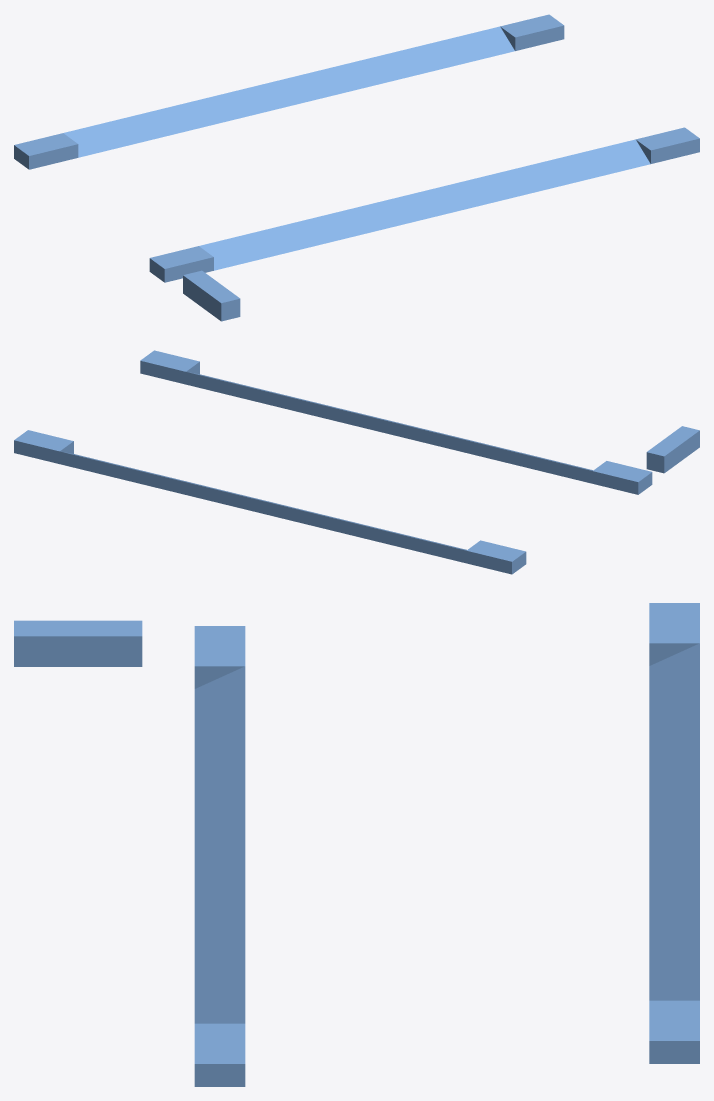
File: Lounge_Collision.fbx
The picture shows the model from 3 angles, top to bottom: view 1: azimuth 30°, elevation 25°; view 2: azimuth 150°, elevation 25°; view 3: azimuth 270°, elevation 25°; orthographic projection. The views are drawn at different scales.
Parts seen in each view (by area): view 1: COL_Stair_Ramp_2, COL_Stair_Ramp_1, COL_SnackCounter, COL_TierEdge_2_-1, COL_TierEdge_1_-1, COL_TierEdge_2_1, COL_TierEdge_1_1; view 2: COL_Stair_Ramp_2, COL_Stair_Ramp_1, COL_SnackCounter, COL_TierEdge_1_-1, COL_TierEdge_2_-1, COL_TierEdge_2_1, COL_TierEdge_1_1; view 3: COL_Stair_Ramp_1, COL_Stair_Ramp_2, COL_SnackCounter, COL_TierEdge_1_1, COL_TierEdge_2_1, COL_TierEdge_1_-1, COL_TierEdge_2_-1.
Part boxes in pixels (x1,y1,x2,y2): COL_Stair_Ramp_2: [63, 26, 514, 157]; COL_Stair_Ramp_1: [199, 139, 650, 270]; COL_SnackCounter: [183, 270, 240, 321]; COL_TierEdge_2_-1: [14, 133, 78, 169]; COL_TierEdge_1_-1: [149, 246, 213, 282]; COL_TierEdge_2_1: [500, 14, 564, 50]; COL_TierEdge_1_1: [636, 127, 699, 163]; COL_Stair_Ramp_2: [59, 451, 466, 563]; COL_Stair_Ramp_1: [186, 372, 592, 483]; COL_SnackCounter: [646, 426, 699, 473]; COL_TierEdge_1_-1: [592, 461, 652, 494]; COL_TierEdge_2_-1: [466, 540, 526, 574]; COL_TierEdge_2_1: [14, 430, 73, 463]; COL_TierEdge_1_1: [140, 350, 199, 384]; COL_Stair_Ramp_1: [194, 666, 245, 1023]; COL_Stair_Ramp_2: [649, 643, 699, 1000]; COL_SnackCounter: [14, 620, 142, 666]; COL_TierEdge_1_1: [194, 1023, 245, 1086]; COL_TierEdge_2_1: [649, 1000, 699, 1063]; COL_TierEdge_1_-1: [194, 626, 245, 688]; COL_TierEdge_2_-1: [649, 603, 699, 665].
Size of the model in its own units: 98 by 4.8 by 64.88.
